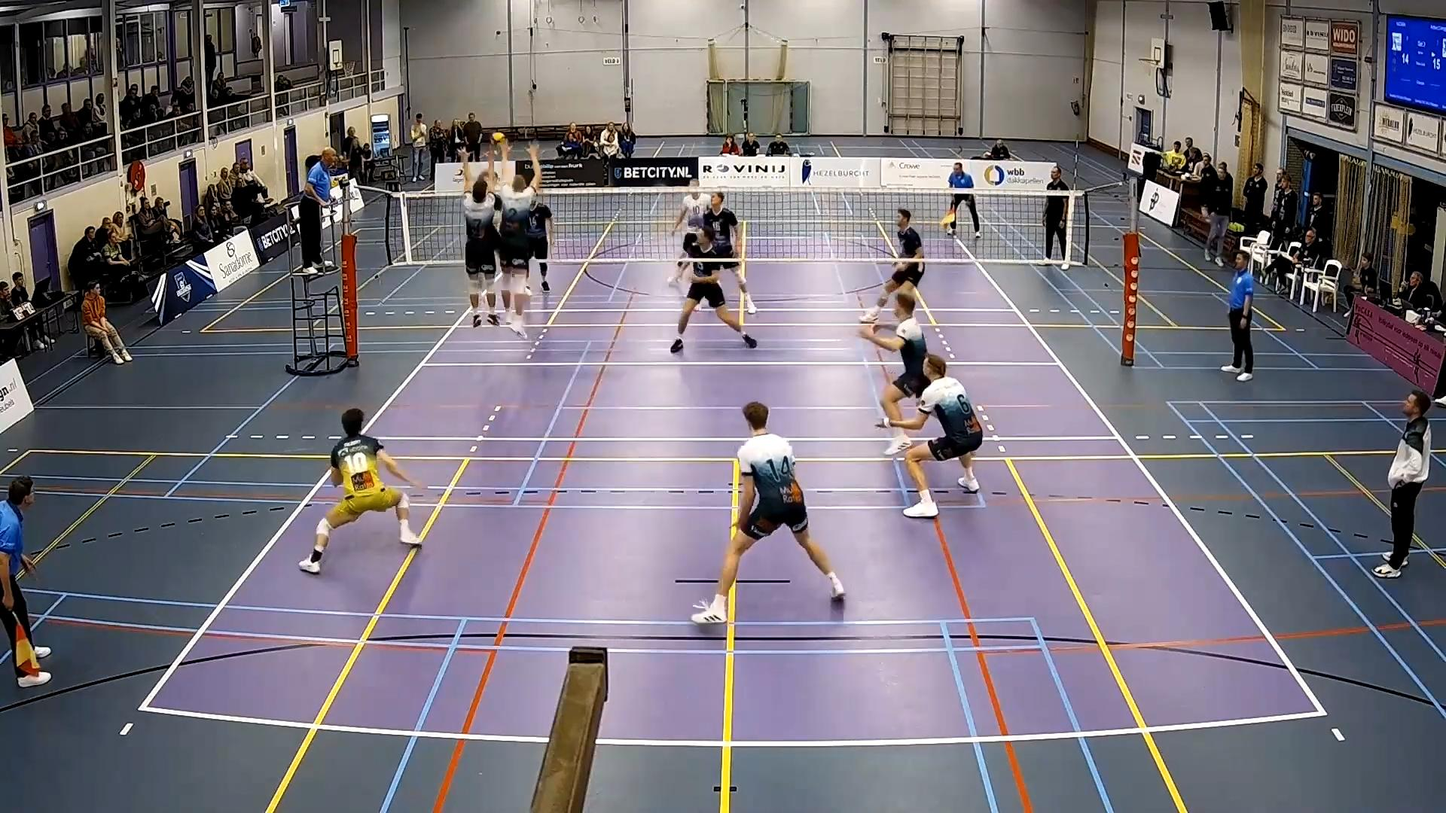muro: (476, 149, 555, 336), (453, 160, 500, 325)
